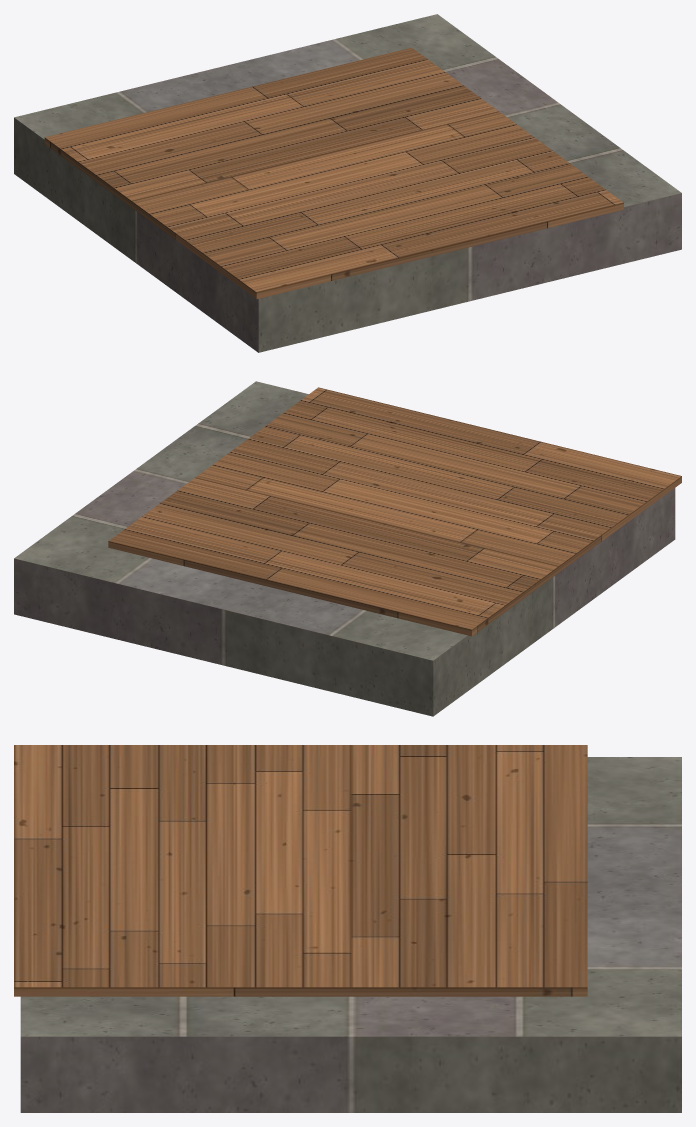
File: floor_floor_g_e0110.glb
3 views of the same model, one above another, from view 1: azimuth 30°, elevation 25°; view 2: azimuth 150°, elevation 25°; view 3: azimuth 270°, elevation 25° (orthographic). The views are drawn at different scales.
Parts seen in each view (by area): view 1: floor_floor_g_e0110_floor, floor_floor_g_e0110_plinth; view 2: floor_floor_g_e0110_floor, floor_floor_g_e0110_plinth; view 3: floor_floor_g_e0110_floor, floor_floor_g_e0110_plinth.
Boxes of the visible parts, bbox=[...] form: floor_floor_g_e0110_floor: bbox=[44, 47, 623, 298]; floor_floor_g_e0110_plinth: bbox=[14, 14, 681, 352]; floor_floor_g_e0110_floor: bbox=[108, 387, 681, 636]; floor_floor_g_e0110_plinth: bbox=[14, 381, 675, 716]; floor_floor_g_e0110_floor: bbox=[14, 745, 587, 996]; floor_floor_g_e0110_plinth: bbox=[20, 757, 681, 1112].
Bounding box in the file's own units: 1.98 × 0.28 × 1.98.
2 materials, 2 textured.
